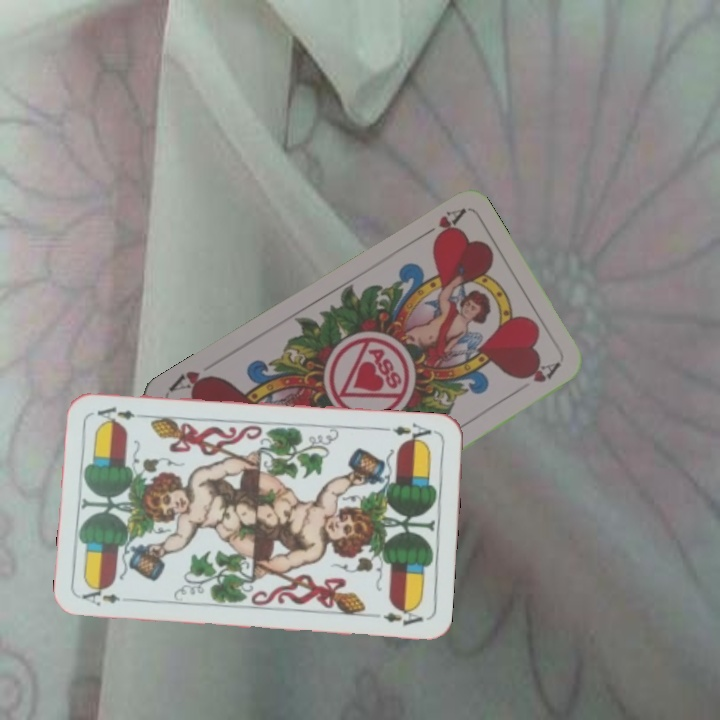EA: (78, 582, 136, 609), (389, 418, 439, 446)
HA: (412, 205, 467, 245)
